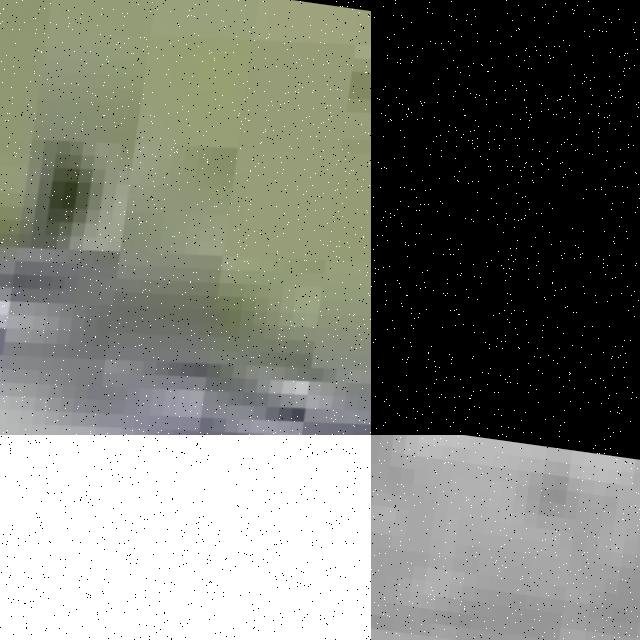drone: (0, 0, 371, 435)
